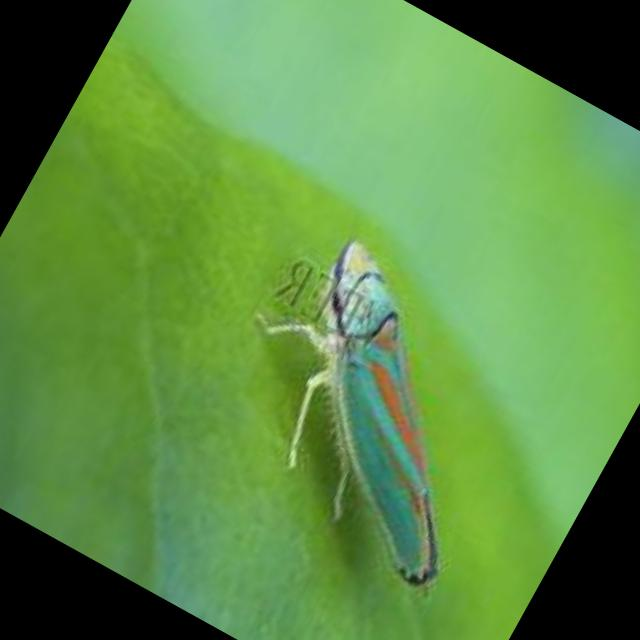green-leafhopper: (204, 222, 568, 602)
